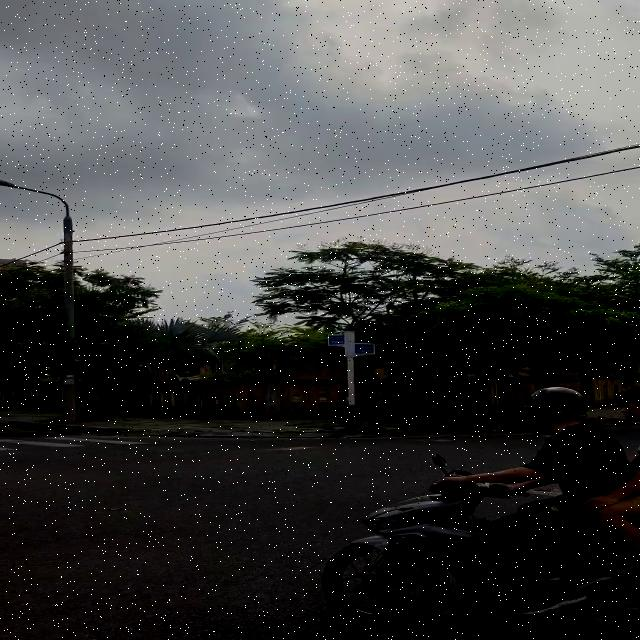helmet: (520, 380, 594, 433)
